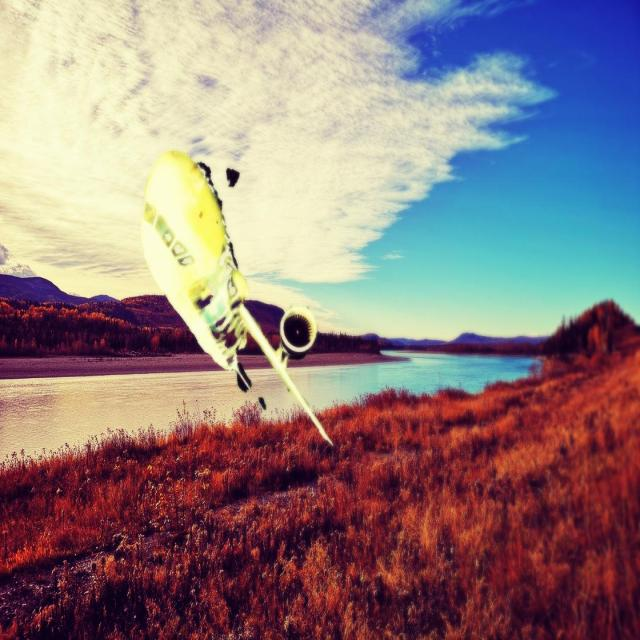airplane: (140, 149, 334, 447)
